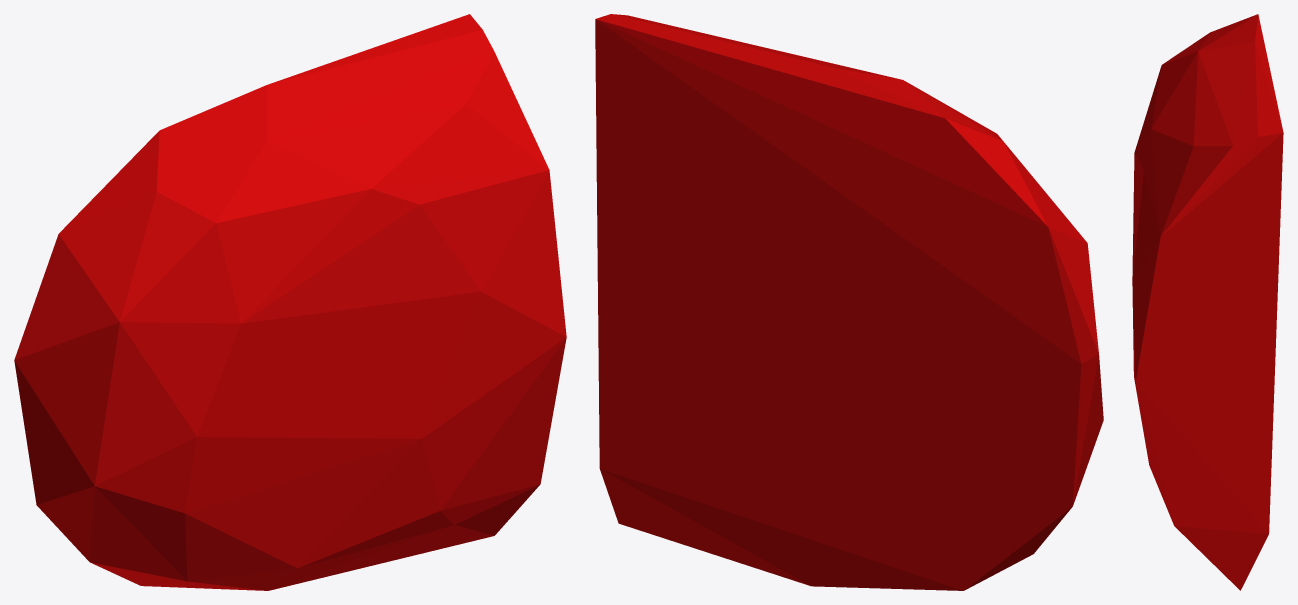
Rendered from arm-L4_convex_piece_005.obj.
The picture shows the model from 3 angles, left to right: view 1: azimuth 30°, elevation 25°; view 2: azimuth 150°, elevation 25°; view 3: azimuth 270°, elevation 25°; orthographic projection. The views are drawn at different scales.
Size of the model in its own units: 0.0771 by 0.0775 by 0.0229.
